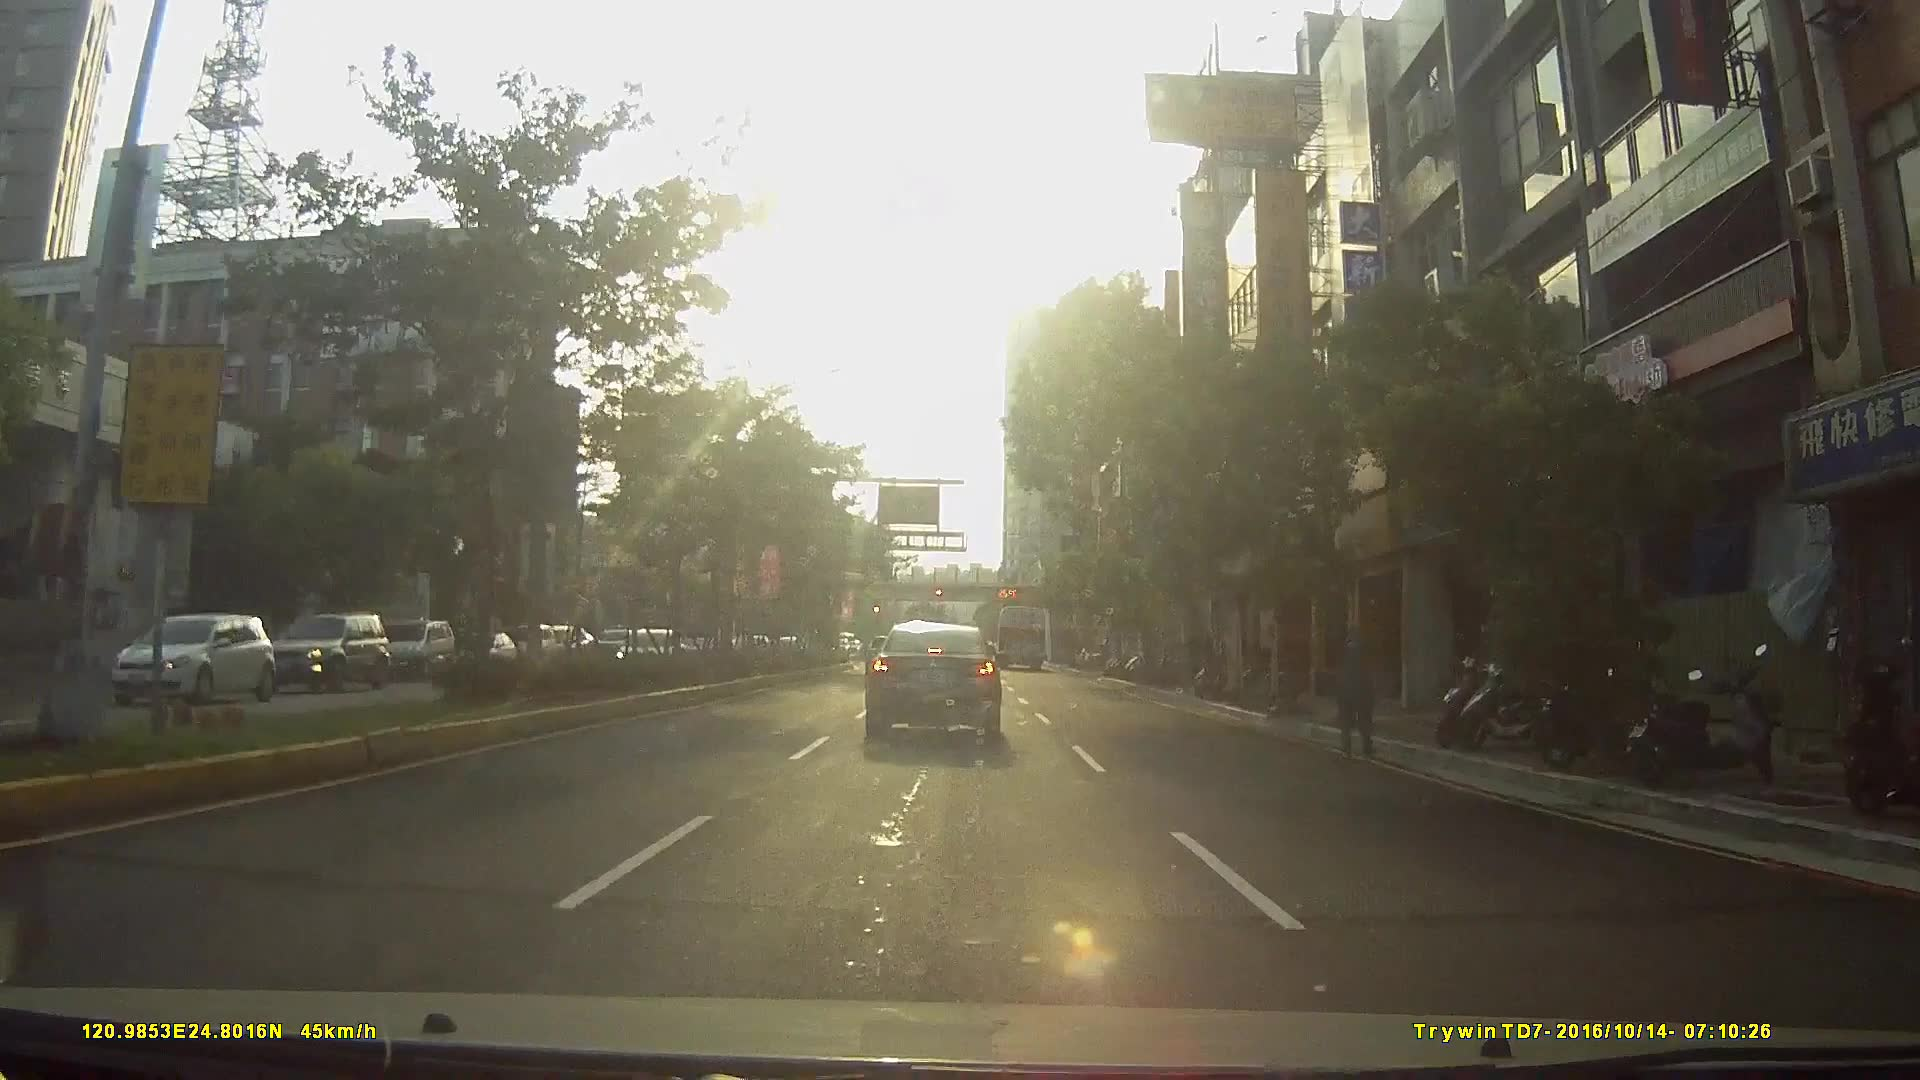pedestrian: (1327, 620, 1388, 761)
vehicle: (100, 608, 288, 708), (862, 619, 1002, 739), (252, 611, 397, 699), (373, 617, 452, 679), (996, 605, 1047, 672)
